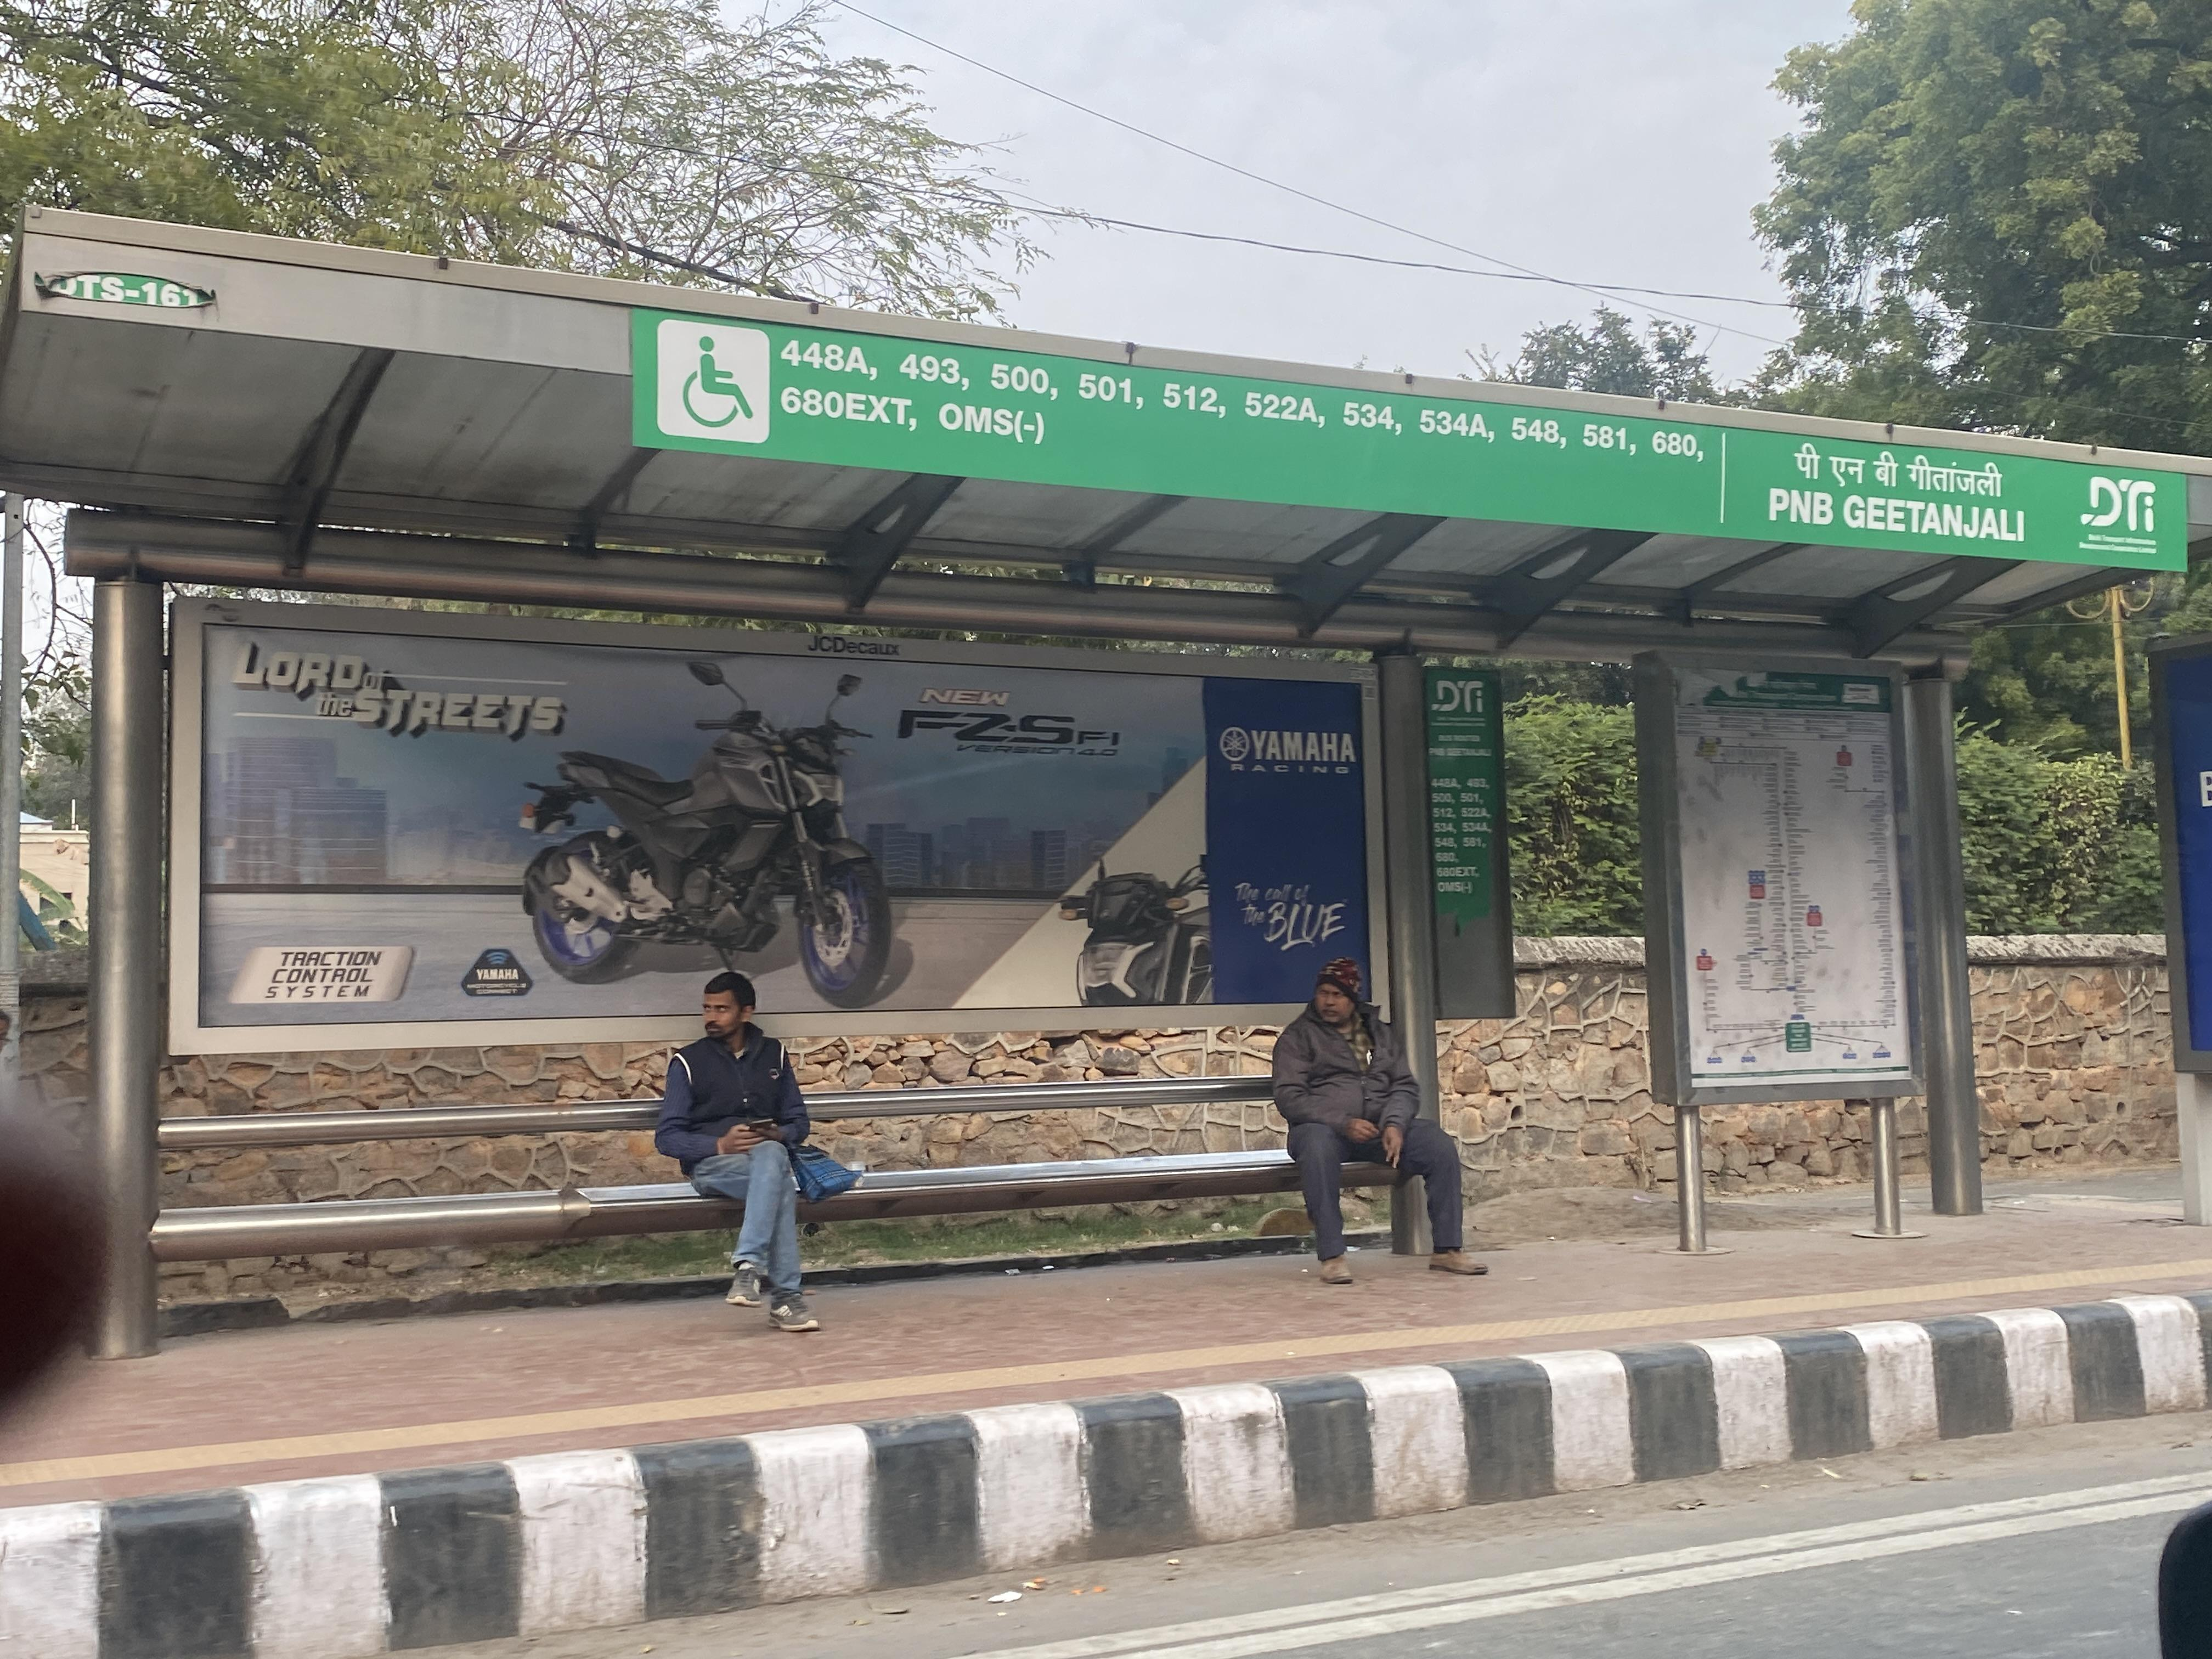Bus-stop-board: (631, 296, 2212, 570)
